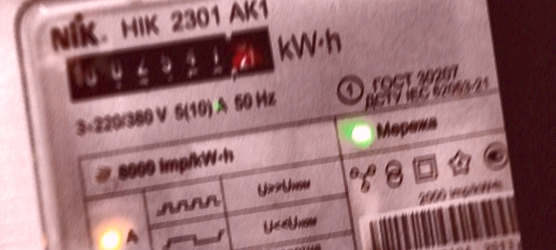0: (79, 60, 101, 88), (107, 53, 124, 82)
1: (205, 38, 222, 66)
2: (130, 50, 150, 77)
4: (182, 42, 198, 66)
5: (155, 45, 177, 75)
6: (234, 50, 252, 70)
screen: (50, 11, 291, 114)
